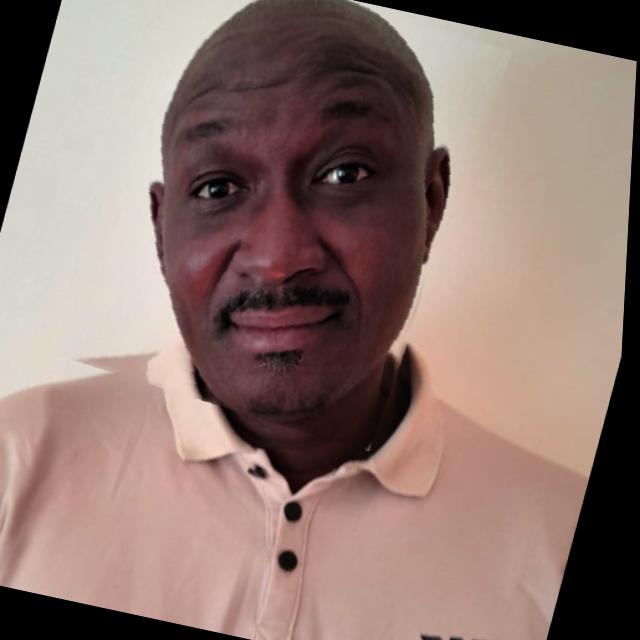happy: (63, 0, 509, 450)
